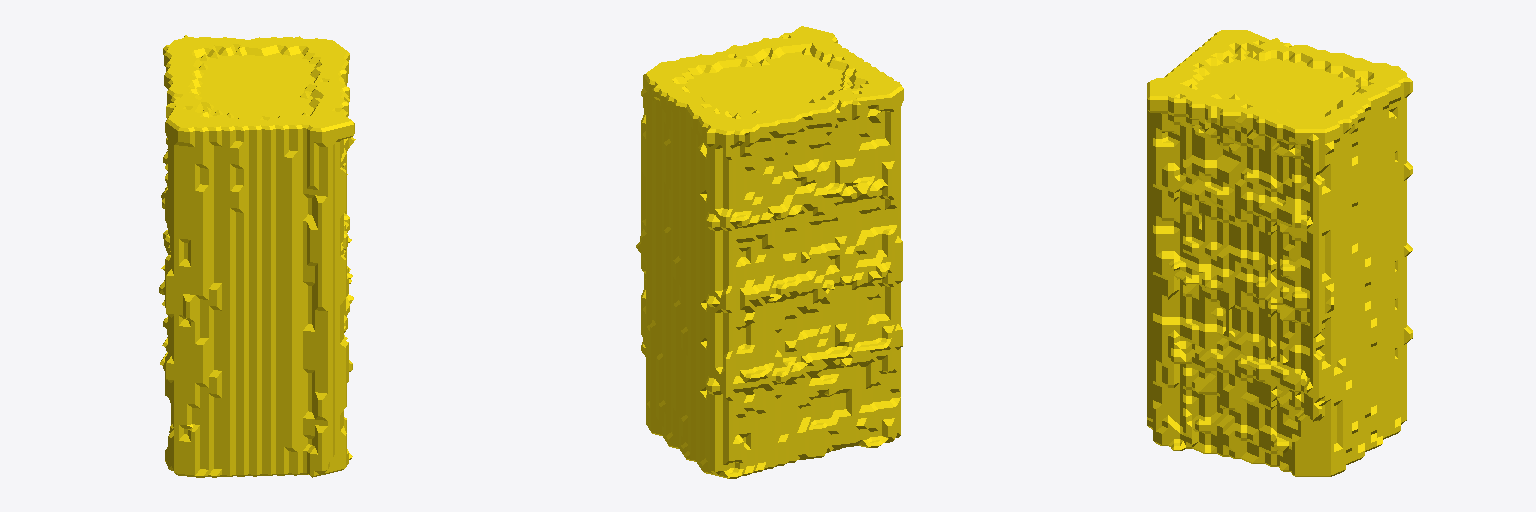
The model's file is gen8_colored.obj.
3 views of the same model, side by side, from view 1: azimuth 30°, elevation 25°; view 2: azimuth 150°, elevation 25°; view 3: azimuth 270°, elevation 25° (orthographic).
Visible parts, largest first — view 1: gen8.obj; view 2: gen8.obj; view 3: gen8.obj.
Boxes of the visible parts, x1,y1,x2,y2 form: gen8.obj: [159, 35, 355, 477]; gen8.obj: [636, 26, 903, 478]; gen8.obj: [1147, 30, 1412, 476].
Bounding box in the file's own units: 43 × 64 × 44.